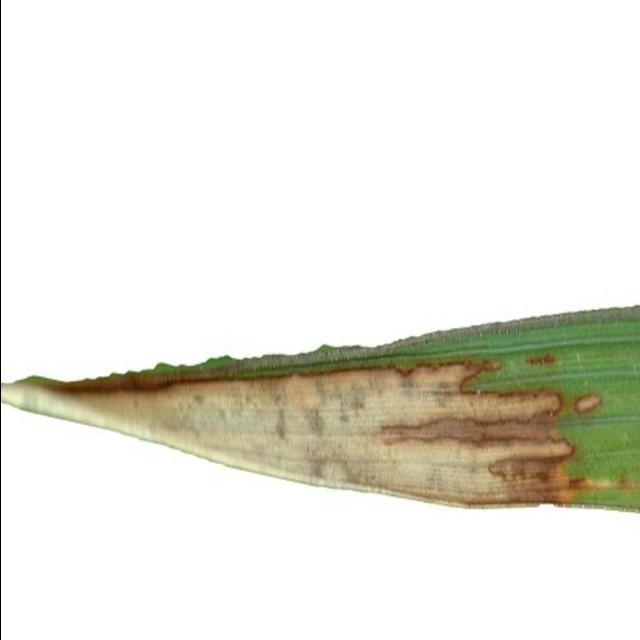Leaf scald: (0, 252, 640, 561)
